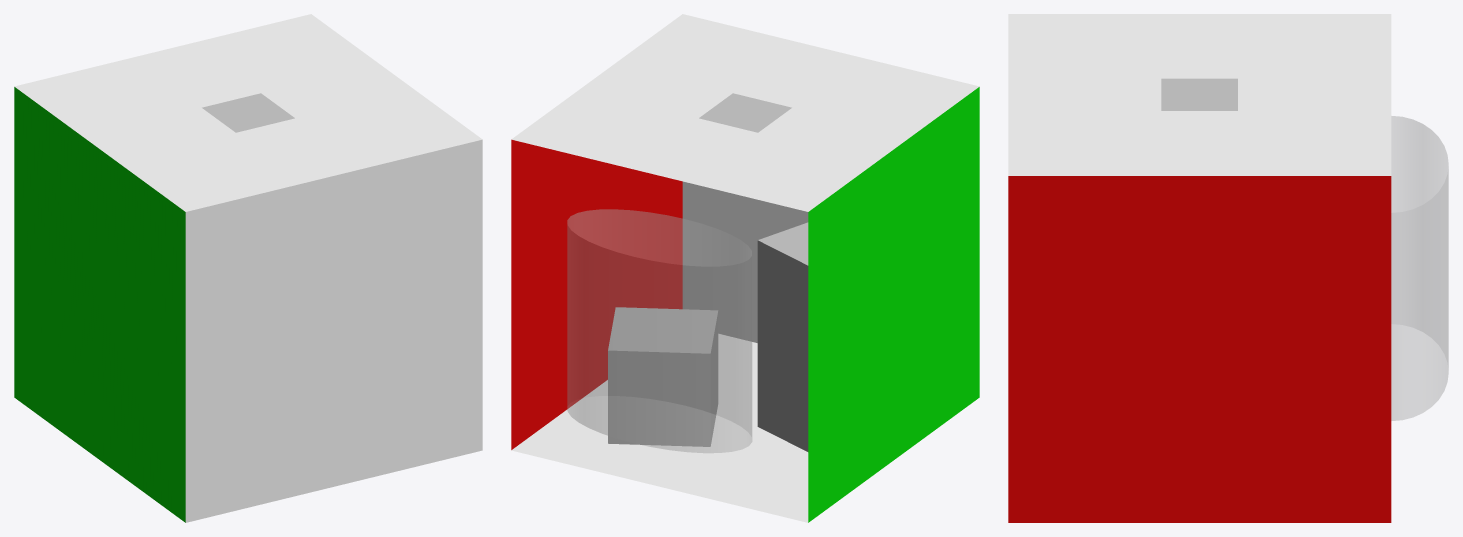
File: cornell_box_lens.obj
The picture shows the model from 3 angles, left to right: view 1: azimuth 30°, elevation 25°; view 2: azimuth 150°, elevation 25°; view 3: azimuth 270°, elevation 25°; orthographic projection. The views are drawn at different scales.
Visible parts, largest first — view 1: Plane.003, Plane.002, Plane.004, Plane.005; view 2: Plane.002, Plane.004, Cylinder, Plane.001, Plane, Cube.002, Plane.003, Cube.003, Plane.005; view 3: Plane.001, Plane.004, Cylinder, Plane.005.
Boxes of the visible parts, bbox=[...] form: Plane.003: bbox=[185, 139, 482, 522]; Plane.002: bbox=[14, 87, 185, 522]; Plane.004: bbox=[14, 14, 482, 211]; Plane.005: bbox=[202, 93, 294, 132]; Plane.002: bbox=[808, 87, 979, 522]; Plane.004: bbox=[511, 14, 979, 211]; Cylinder: bbox=[567, 209, 751, 452]; Plane.001: bbox=[511, 139, 682, 449]; Plane: bbox=[511, 334, 808, 522]; Cube.002: bbox=[608, 307, 718, 446]; Plane.003: bbox=[682, 181, 808, 342]; Cube.003: bbox=[757, 222, 808, 451]; Plane.005: bbox=[699, 93, 791, 132]; Plane.001: bbox=[1008, 176, 1391, 522]; Plane.004: bbox=[1008, 14, 1391, 175]; Cylinder: bbox=[1391, 116, 1448, 420]; Plane.005: bbox=[1161, 78, 1237, 110].
Size of the model in its own units: 5 by 5 by 5.75.
